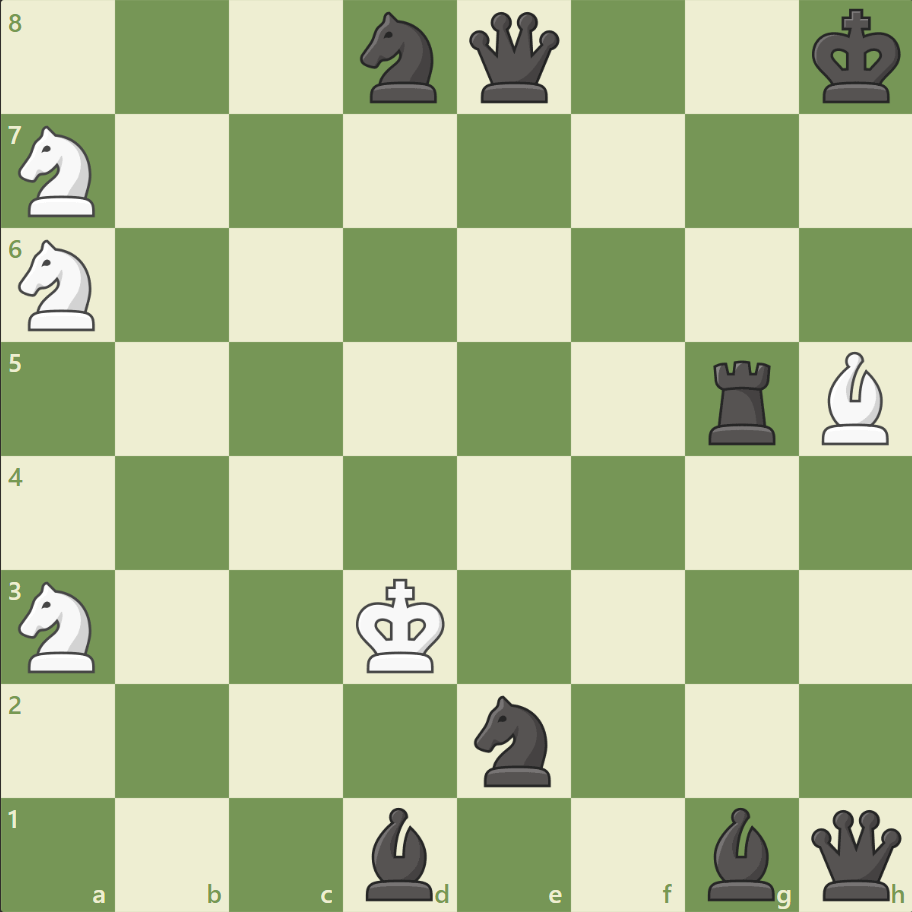B: (812, 347, 896, 449)
K: (351, 571, 451, 679)
N: (11, 234, 108, 337), (11, 121, 108, 223), (11, 575, 108, 677)
b: (358, 801, 442, 904), (698, 801, 782, 904)
k: (806, 4, 906, 112)
n: (351, 7, 449, 110), (465, 688, 562, 791)
q: (464, 9, 563, 108), (805, 804, 904, 903)
r: (700, 352, 783, 449)
